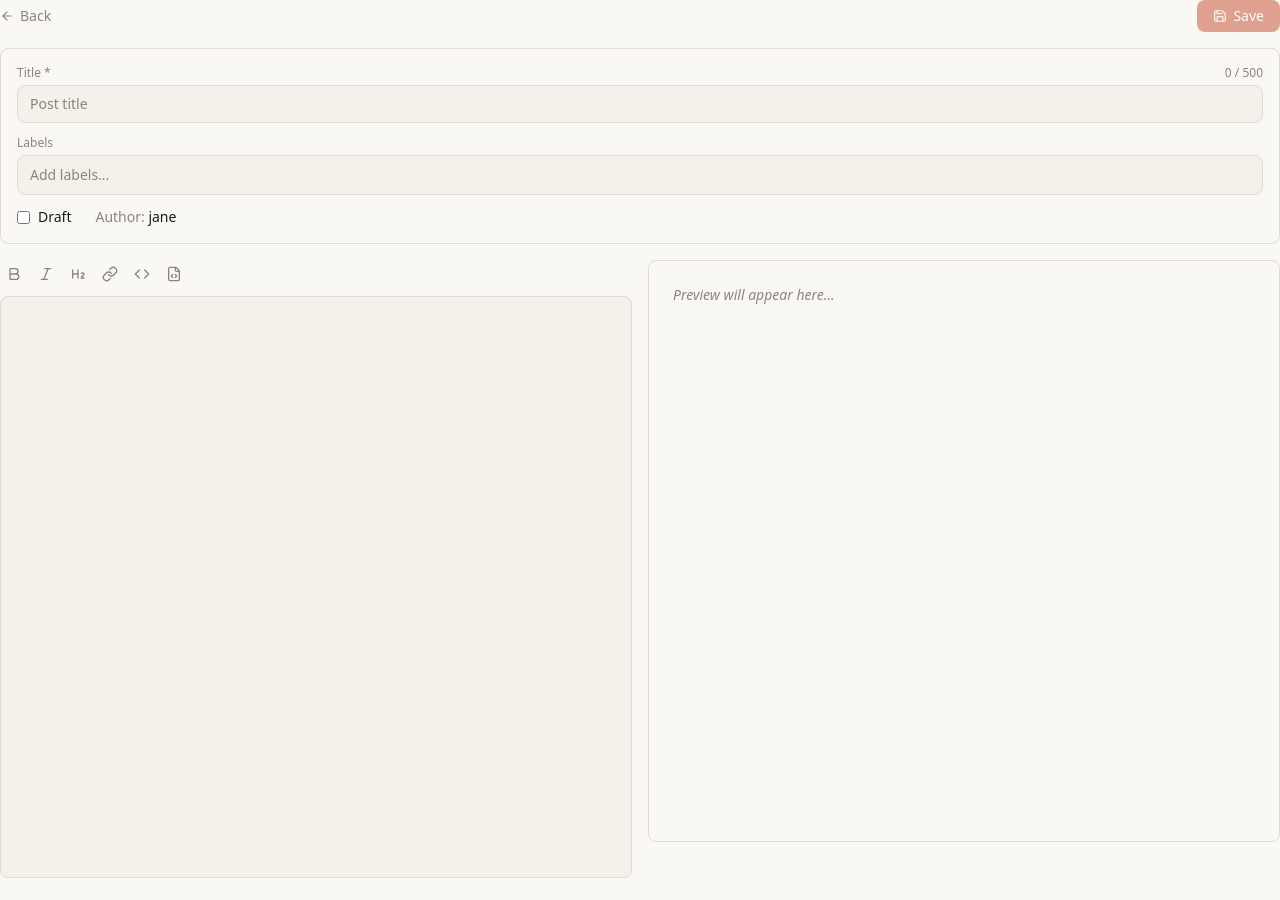
Scenario: EditorPage › shows 401 save error
This screenshot has width=1280, height=900.
Type "Test" into the field labelled "Title *" at (640, 104), box [17,85,1263,123]
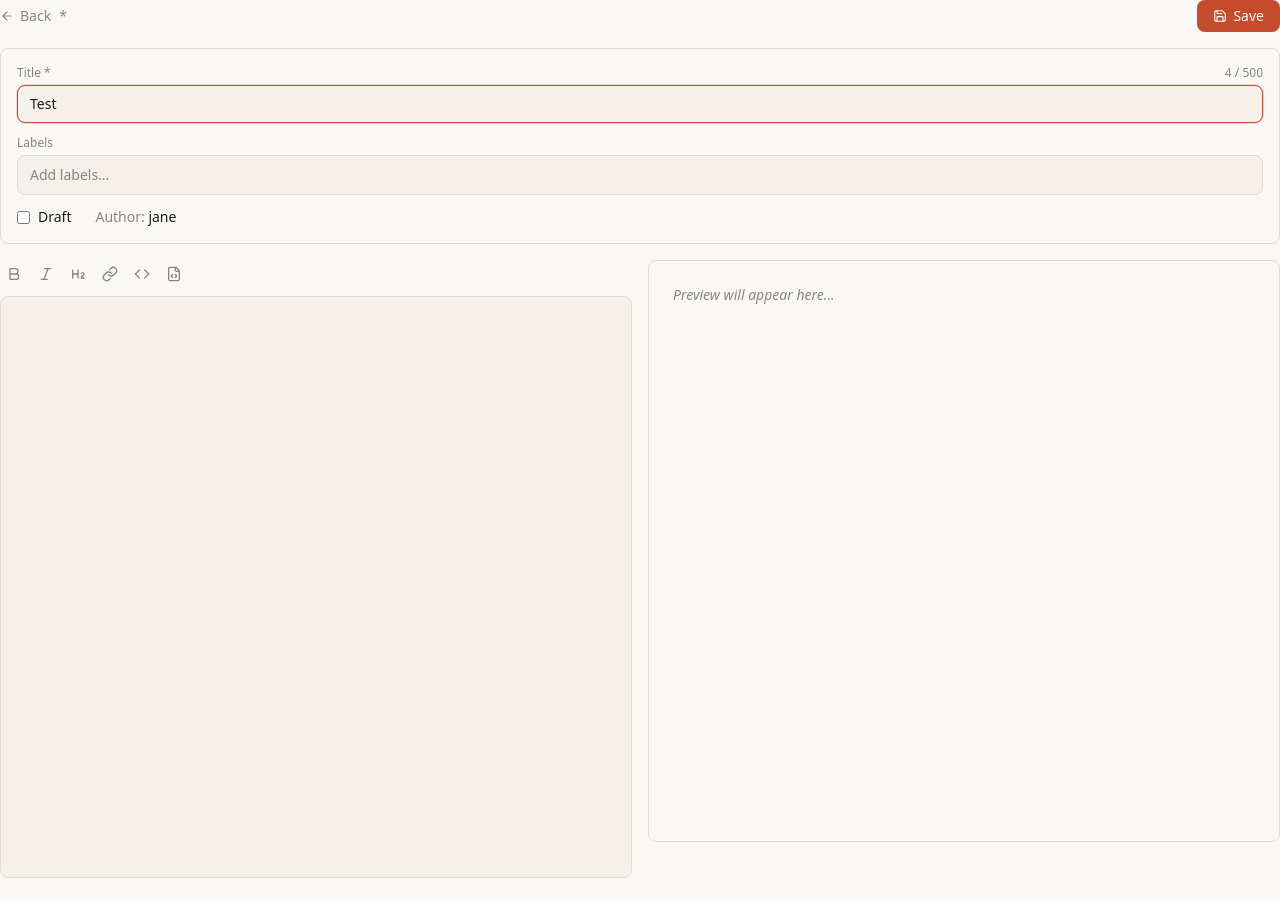
Click the button "Save" at (1239, 16), box [1197,0,1279,32]
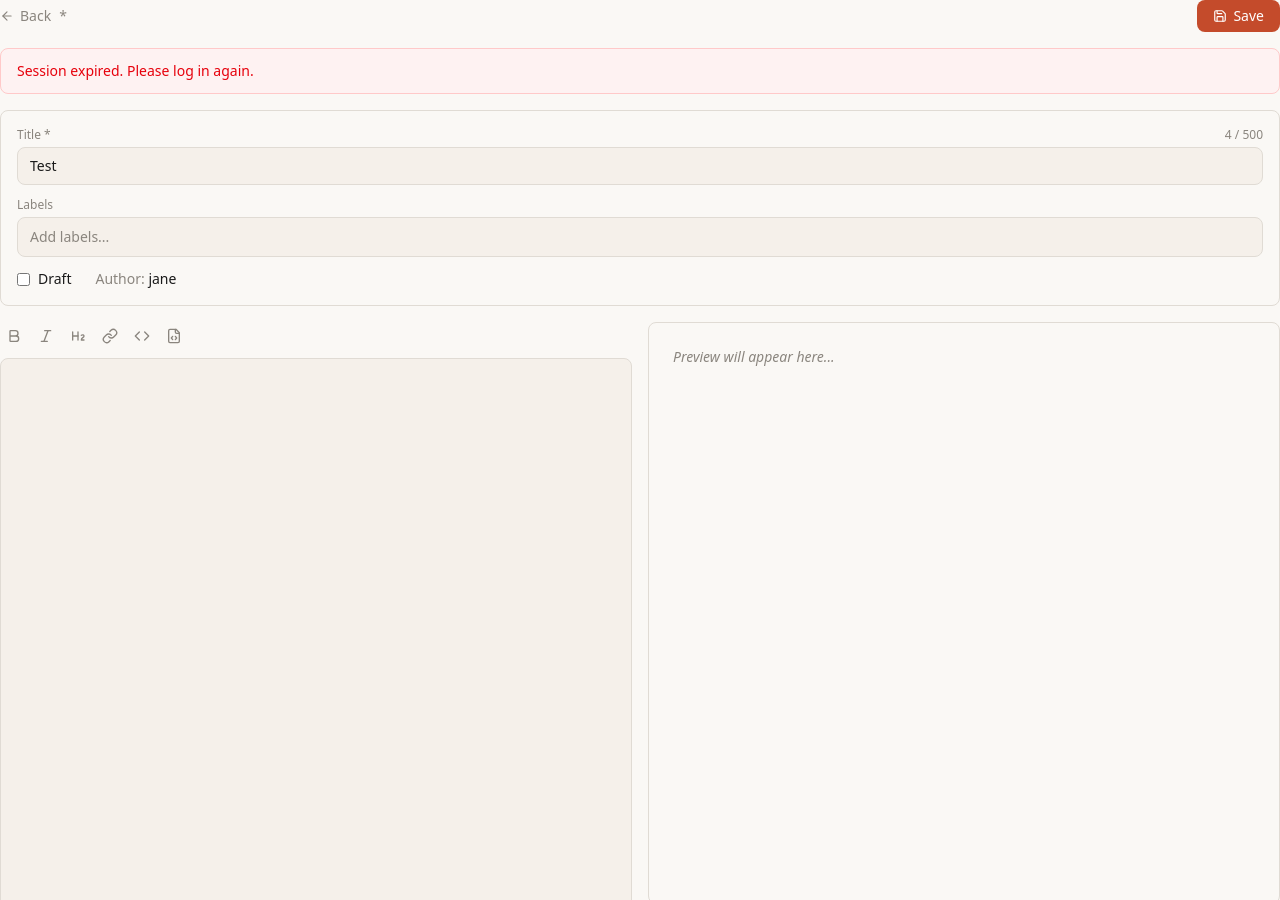
Check: the text "Session expired. Please log in again." is shown, box [0,48,1279,94]
